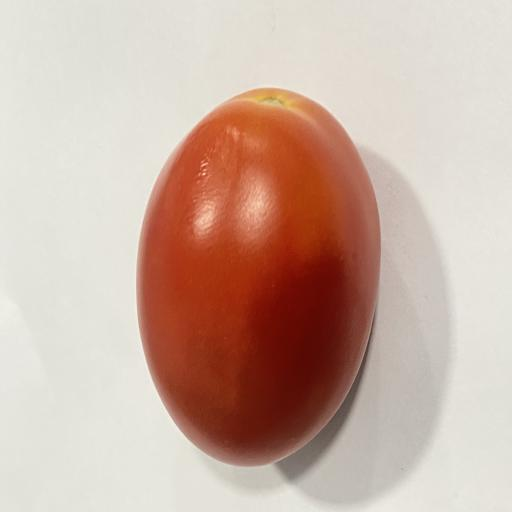overipe: (137, 89, 380, 465)
